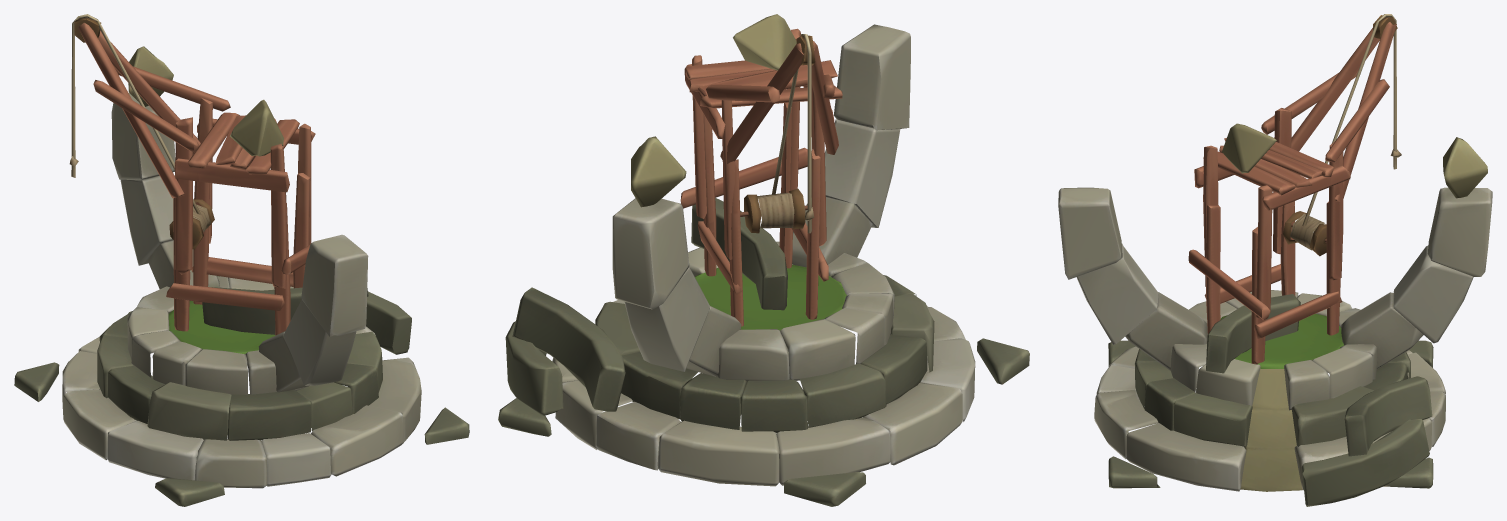
Rendered from SM_Monument_04.glb.
The picture shows the model from 3 angles, left to right: view 1: azimuth 30°, elevation 25°; view 2: azimuth 150°, elevation 25°; view 3: azimuth 270°, elevation 25°; orthographic projection. The views are drawn at different scales.
Visible parts, largest first — view 1: SM_Monument_04; view 2: SM_Monument_04; view 3: SM_Monument_04.
Boxes of the visible parts, bbox=[...] form: SM_Monument_04: bbox=[14, 14, 469, 506]; SM_Monument_04: bbox=[498, 14, 1029, 506]; SM_Monument_04: bbox=[1058, 14, 1492, 506].
Size of the model in its own units: 9.44 by 9.91 by 10.72.
Materials: 1 (1 with a texture image).
